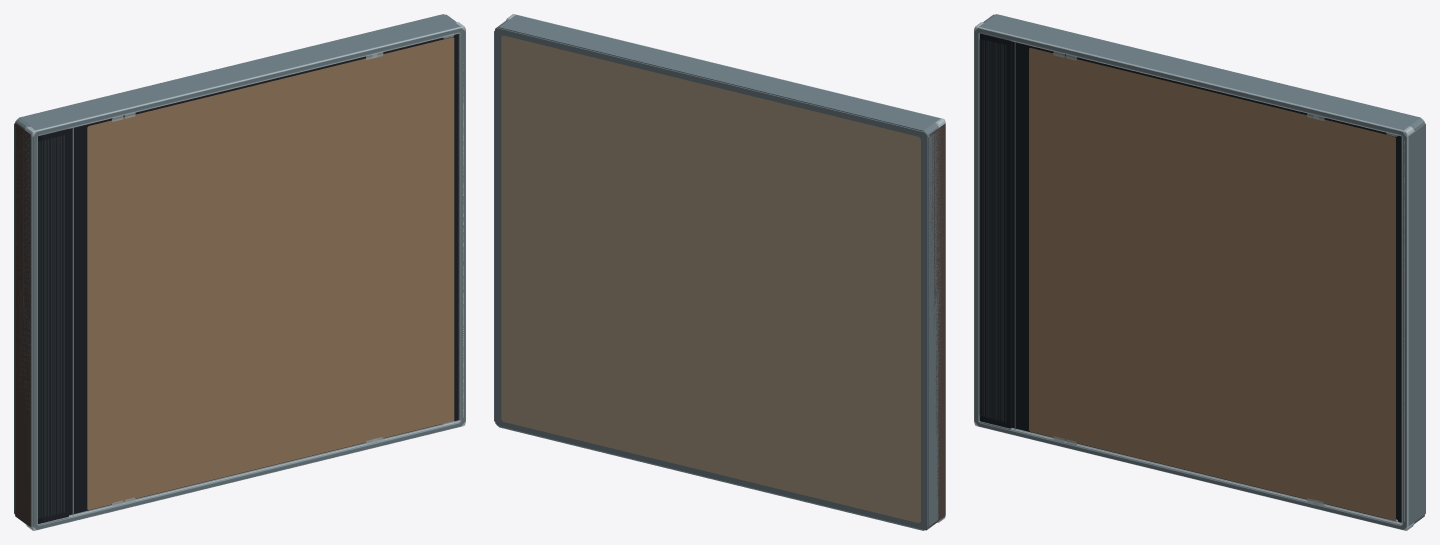
3 views of the same model, side by side, from view 1: azimuth 30°, elevation 25°; view 2: azimuth 150°, elevation 25°; view 3: azimuth 330°, elevation 25° (orthographic).
Visible parts, largest first — view 1: Detail_cd, Shelf_cd; view 2: Detail_cd, Shelf_cd; view 3: Detail_cd, Shelf_cd.
Part boxes in pixels (x1,y1,x2,y2): Detail_cd: (15,14,465,530); Shelf_cd: (14,14,465,529); Detail_cd: (495,14,945,530); Shelf_cd: (494,15,945,530); Detail_cd: (974,14,1424,530); Shelf_cd: (974,14,1425,529).
Bounding box in the file's own units: 0.142 × 0.125 × 0.0104.
